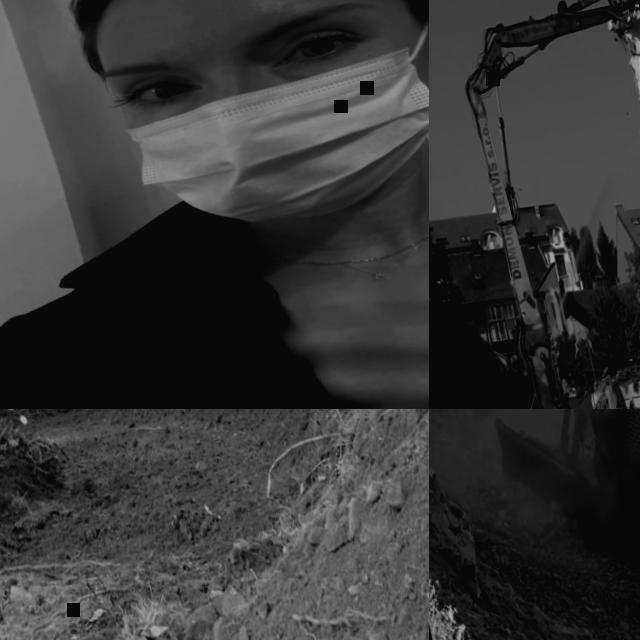machinery: (429, 0, 640, 409), (453, 409, 640, 567)
mask: (129, 53, 429, 243)
no_vest: (0, 172, 429, 409)
person: (0, 0, 429, 409)
